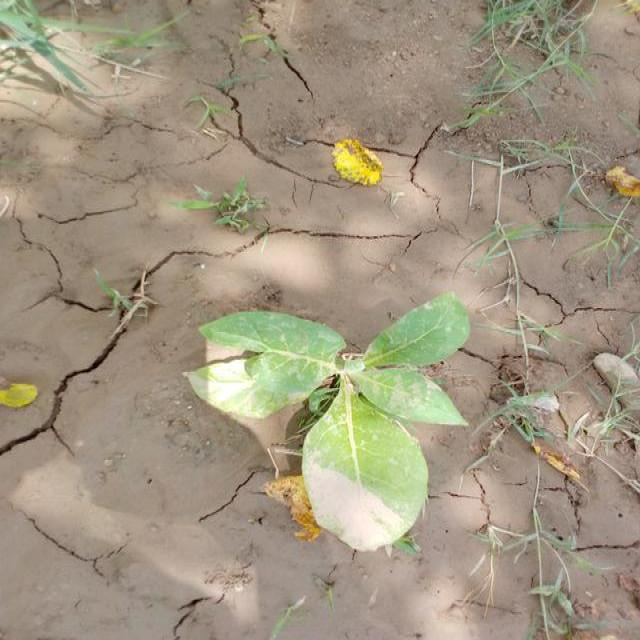crop: (190, 303, 473, 552)
